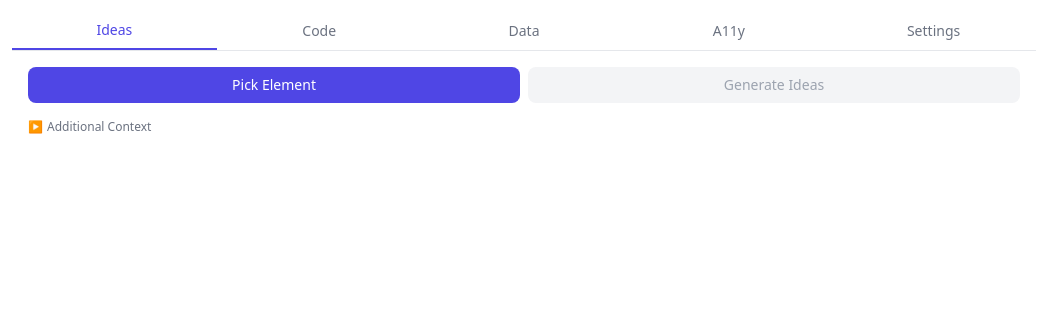
Test: App › switches to Data tab on click
This screenshot has width=1048, height=316.
Click the tab "Data" at x=524, y=31, box 422,12 -> 626,50
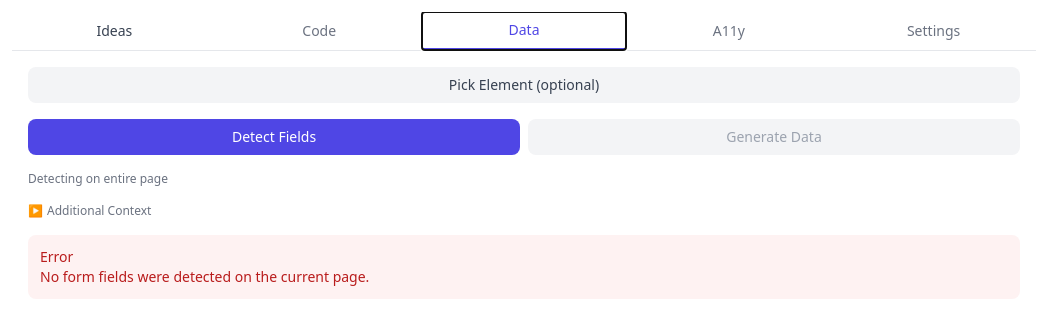
Expected: the button "Detect Fields" is shown, 28,119 -> 520,155
